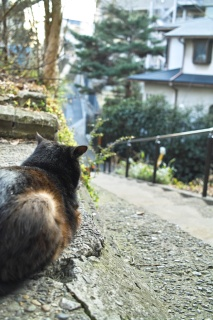Cat: (0, 130, 89, 298)
